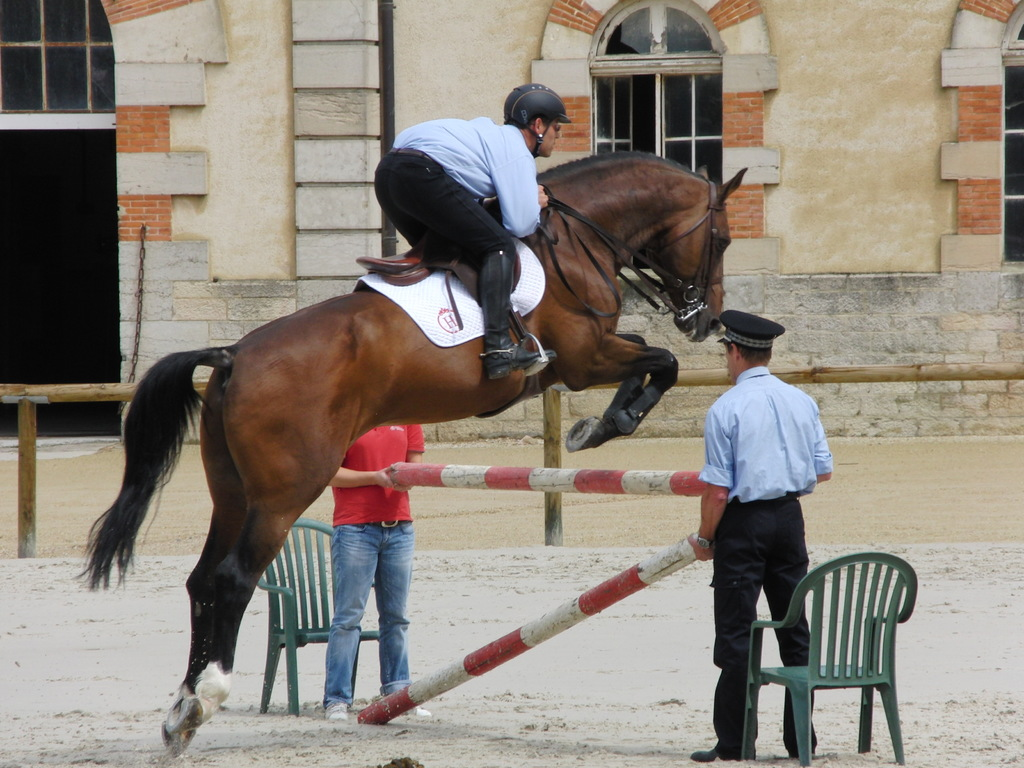horse: (69, 150, 748, 758)
